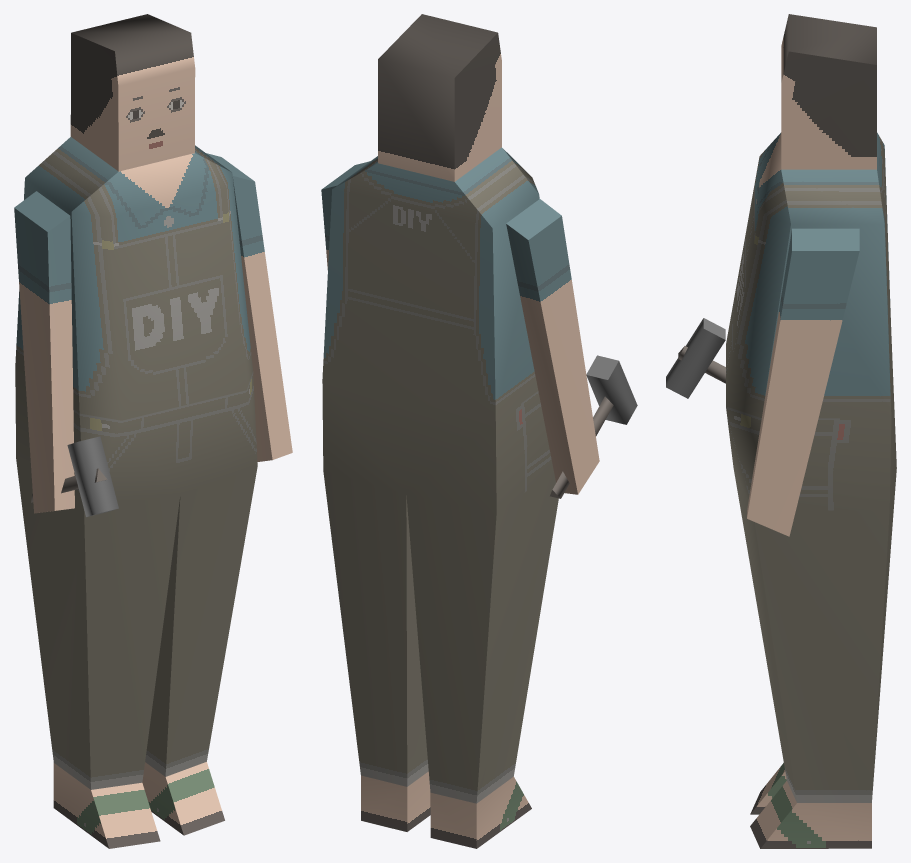
File: 024b_DIY_Dad.glb
The picture shows the model from 3 angles, left to right: view 1: azimuth 30°, elevation 25°; view 2: azimuth 150°, elevation 25°; view 3: azimuth 270°, elevation 25°; orthographic projection.
Visible parts, largest first — view 1: part_0; view 2: part_0; view 3: part_0.
Part boxes in pixels (bbox=[...]): part_0: bbox=[14, 14, 292, 848]; part_0: bbox=[321, 14, 637, 848]; part_0: bbox=[666, 14, 896, 848].
Bounding box in the file's own units: 0.5446 × 1.71 × 0.4542.
1 material, 1 textured.
